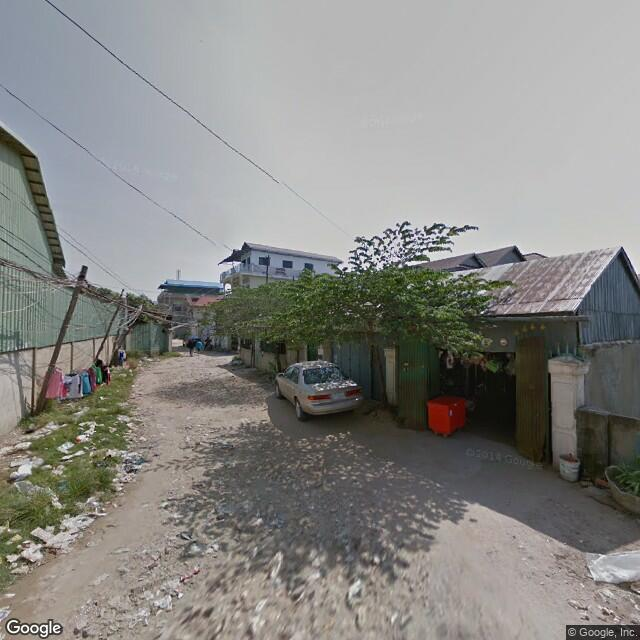litter: (7, 529, 70, 583), (51, 501, 125, 535), (119, 452, 157, 475), (68, 429, 97, 447)
